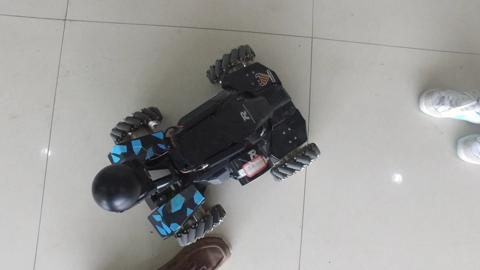chariot: (83, 47, 311, 237)
